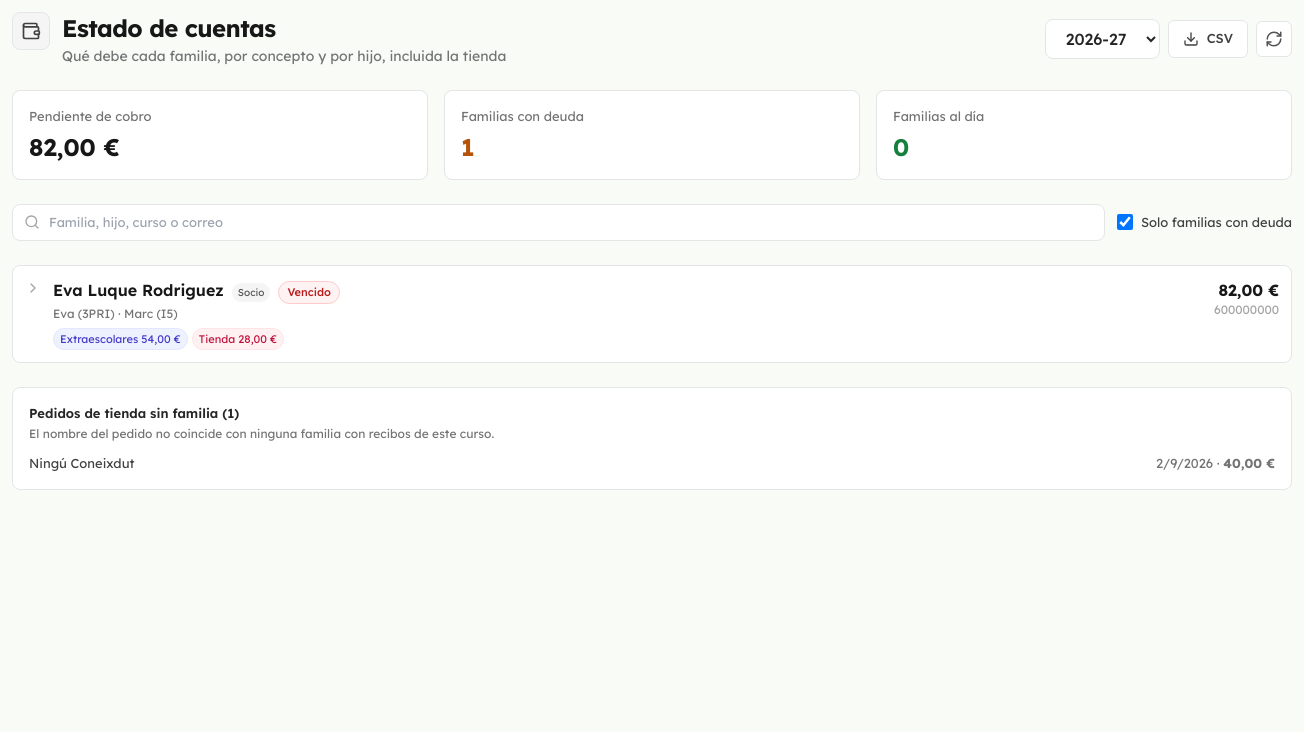
Test: AccountsPage › pinta la familia con su deuda y el desglose al desplegar
expect the button "Eva Luque Rodriguez" shows "82,00 €": met, box [13, 266, 1291, 362]
expect the button "Eva Luque Rodriguez" shows "Extraescolares 54,00 €": met, box [13, 266, 1291, 362]
What coordinates should you click on to do the following:
click the text "Eva Luque Rodriguez"
I would click on:
 (138, 290)
Its box is [53, 278, 224, 302].
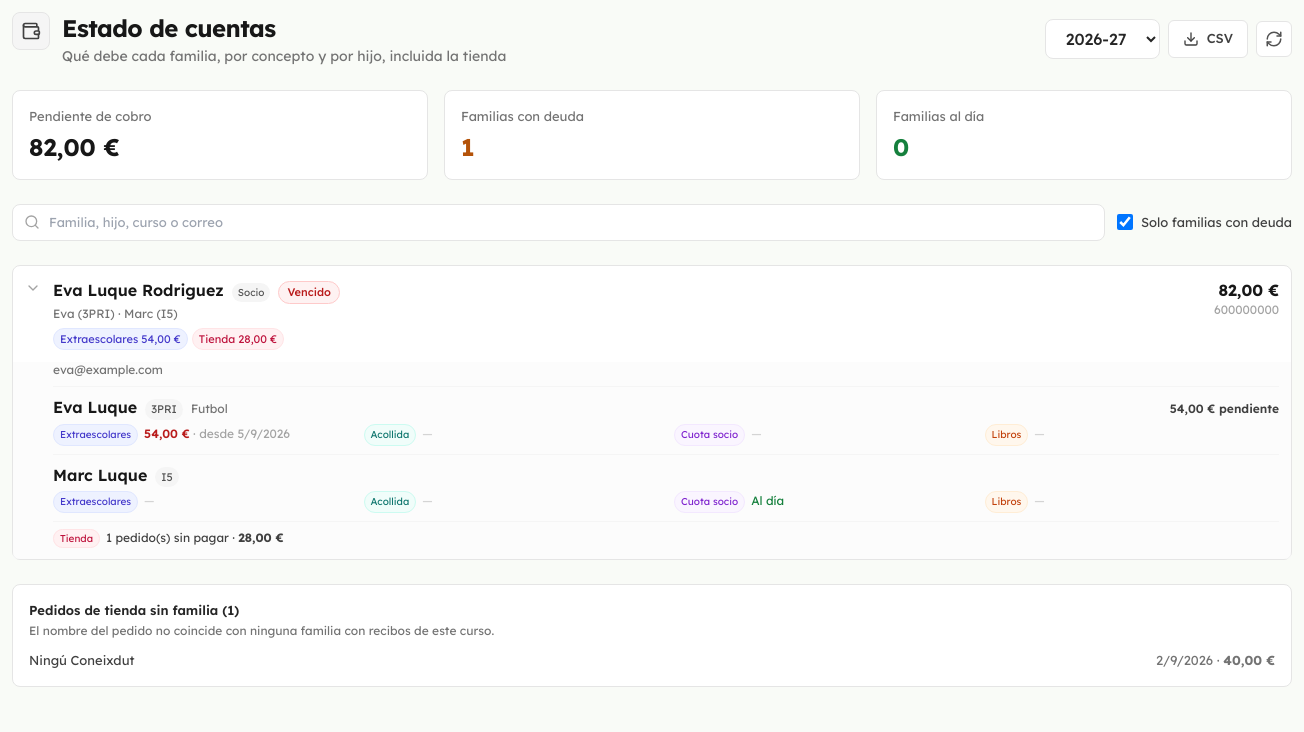
expect the text "Futbol" is shown: met, box [191, 401, 228, 417]
expect the text "Eva Luque" is shown: met, box [53, 395, 137, 419]
expect the text "eva@example.com" is shown: met, box [53, 362, 163, 377]
